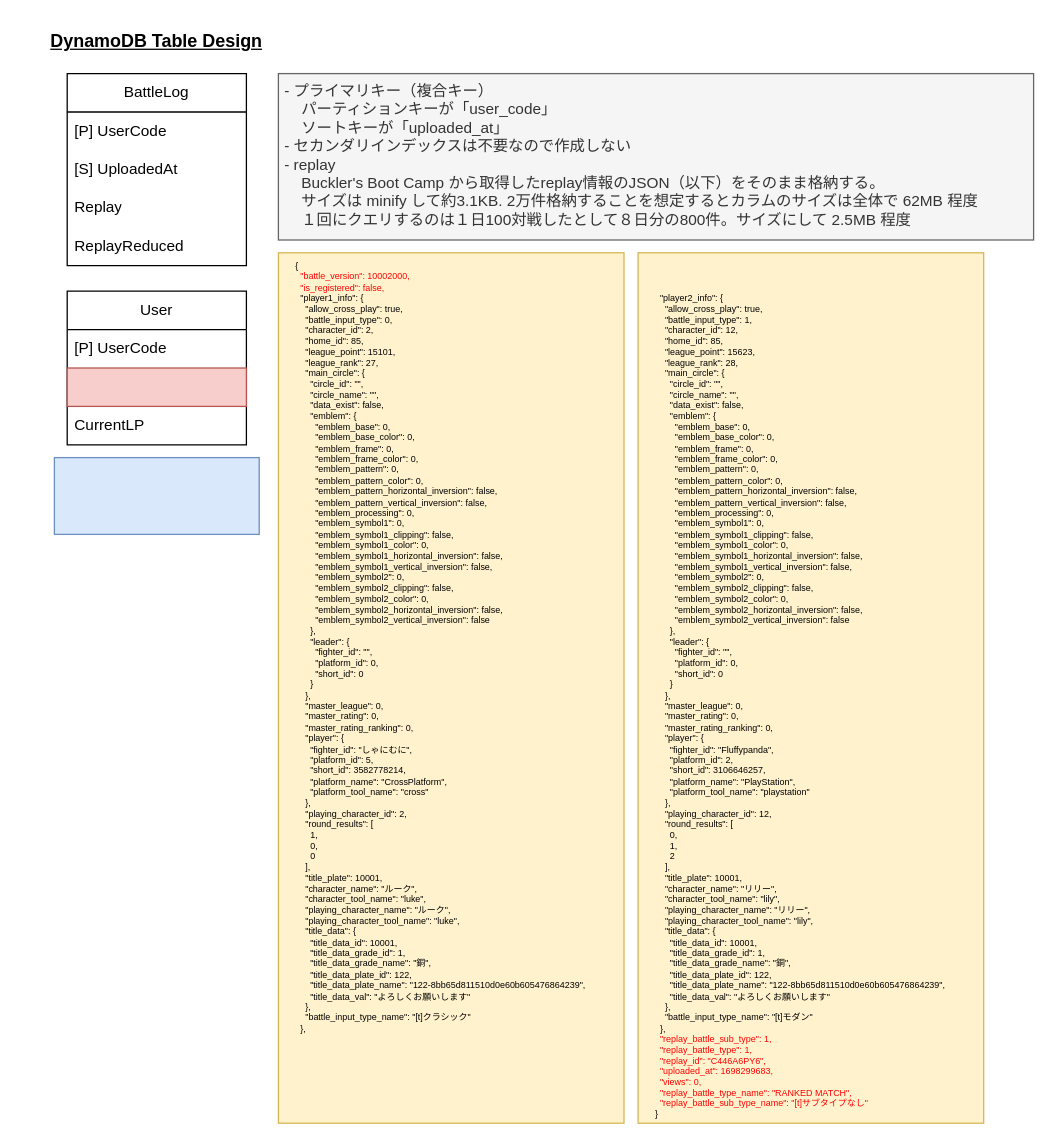
This 1056x1146 diagram has some shape labels left out. The shapes that lost their labels are listed below. From the top down, each one's centre as x and y in pixels, then its label:
At pixel 156 386: "Play".
At pixel 156 495: "当面の目的に照らした場合、むしろPlayの保管は不要 → カット".
